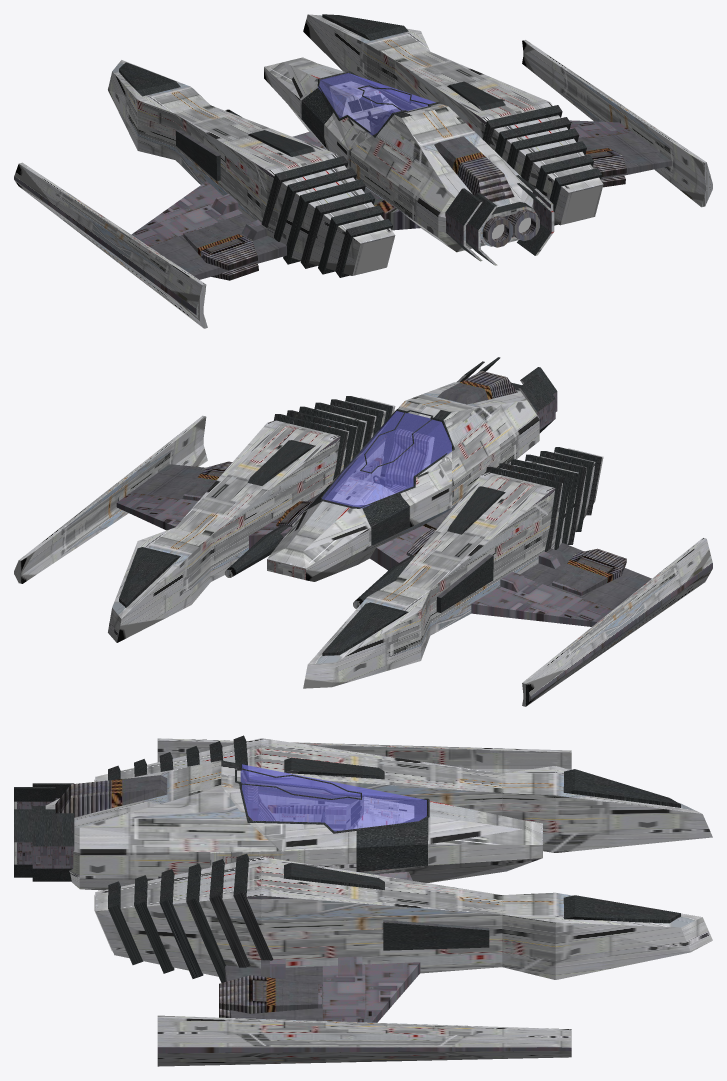
Rendered from sship4.obj.
3 renders of one model, top to bottom at view 1: azimuth 30°, elevation 25°; view 2: azimuth 150°, elevation 25°; view 3: azimuth 270°, elevation 25°, orthographic. The views are drawn at different scales.
Parts seen in each view (by area): view 1: panels4, glass, glow; view 2: panels4, glass; view 3: panels4, glass.
Boxes of the visible parts, x1,y1,x2,y2 form: panels4: (14,14,712,328); glass: (318,73,435,135); glow: (356,186,601,274); panels4: (14,357,712,706); glass: (322,411,451,508); panels4: (14,735,712,1066); glass: (240,764,426,831).
Bounding box in the file's own units: 38.51 × 9.63 × 39.76.
